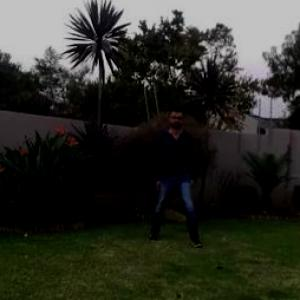follow: (155, 97, 196, 237)
